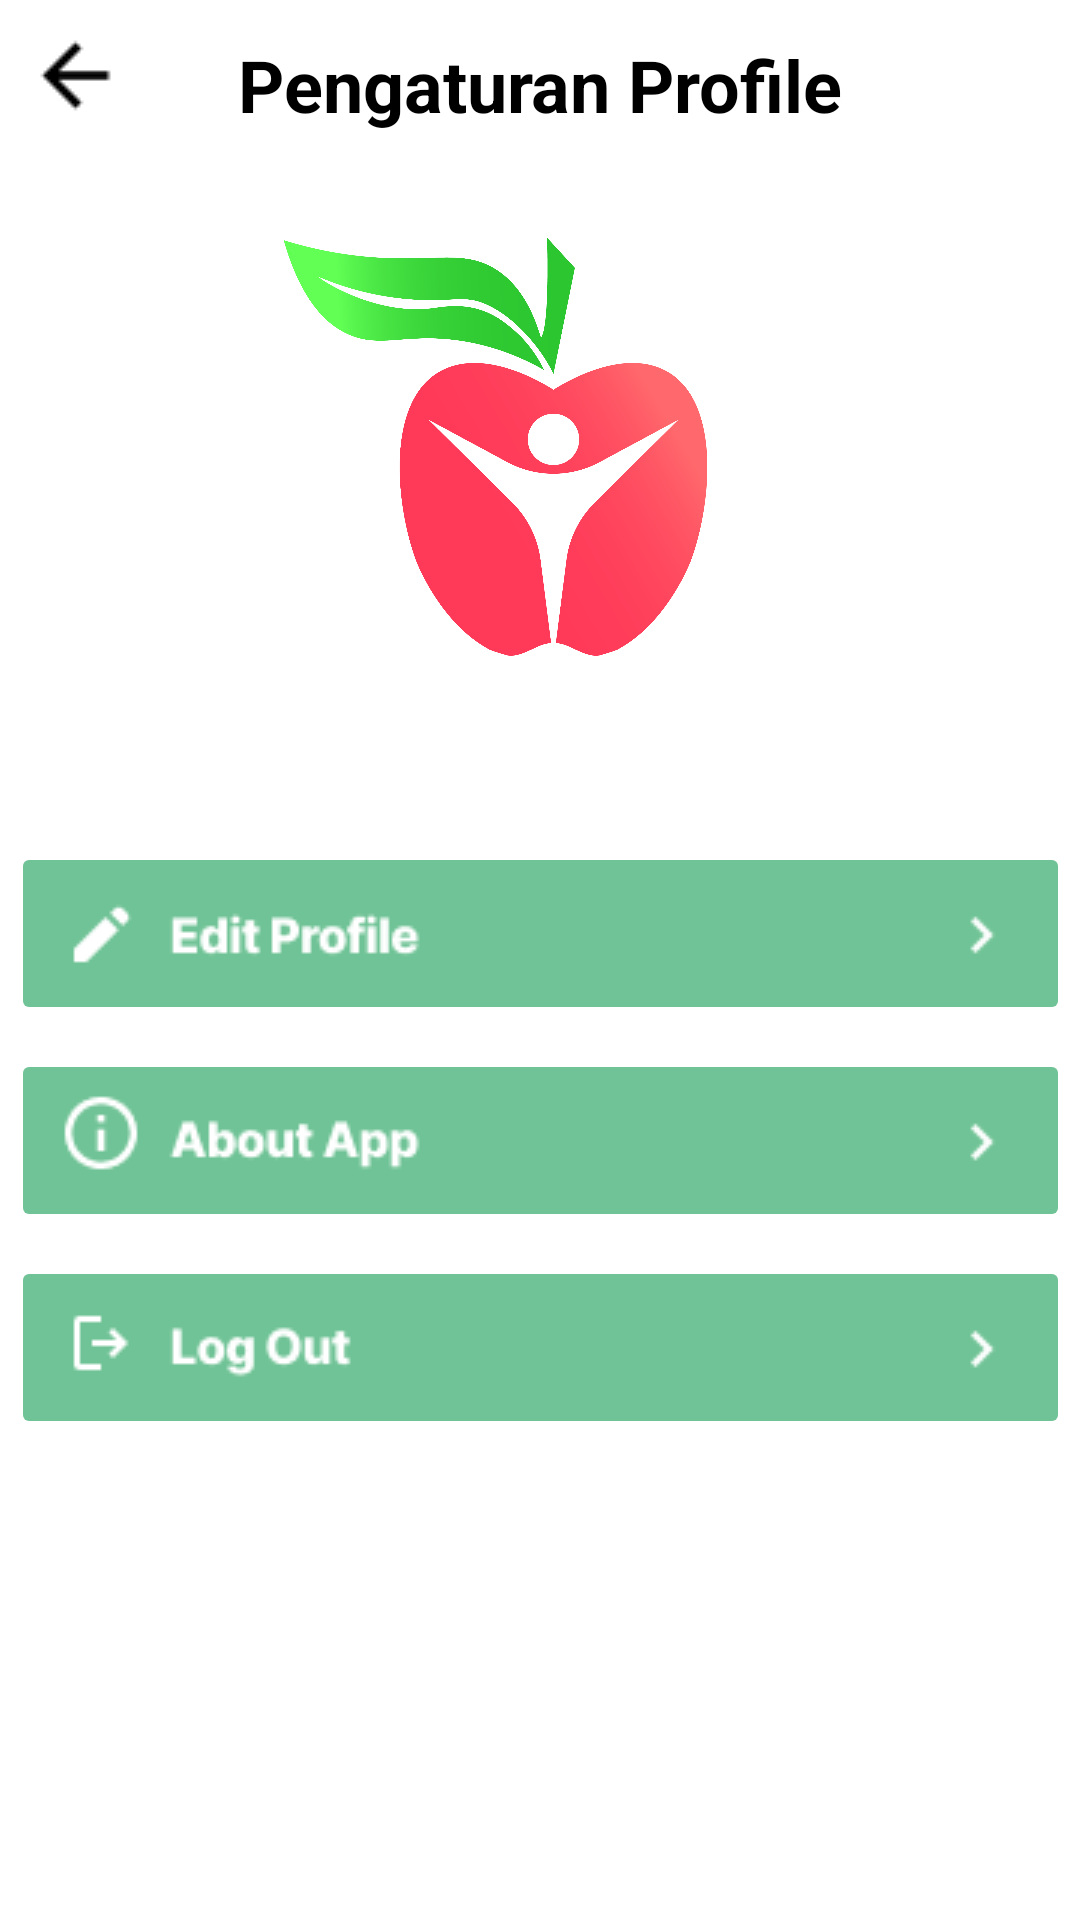

Icon click points for this 1080px×1920px phone screenshot, format (x=x, y=y):
arrow back: (x=76, y=75)
